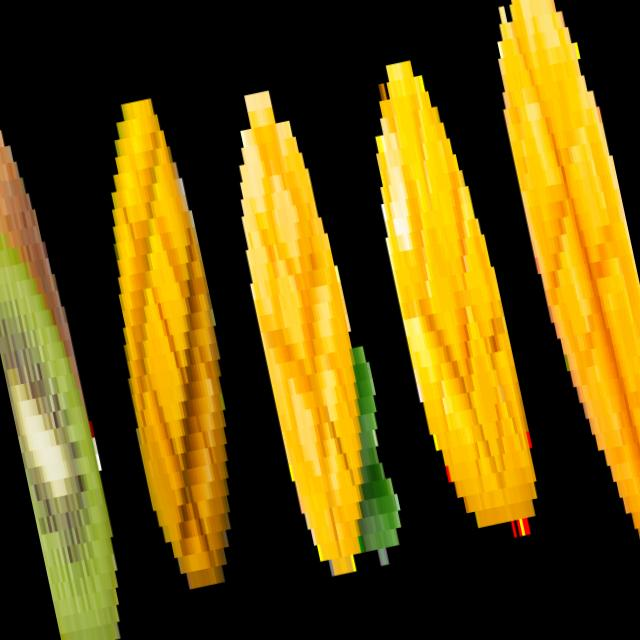mango: (57, 57, 277, 619), (204, 68, 415, 594), (344, 45, 553, 552), (469, 0, 640, 570)
